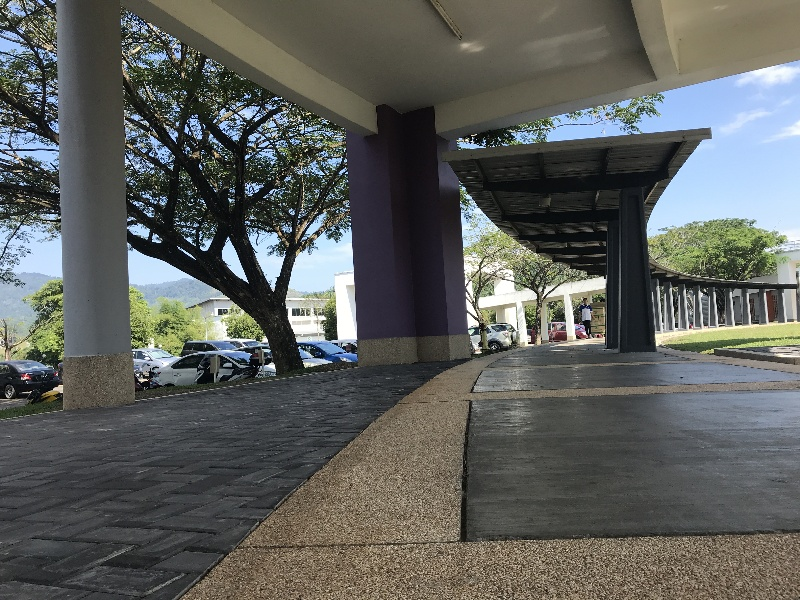Block D Pillar 5: (12, 4, 800, 555)
pillar: (44, 6, 158, 408), (333, 100, 490, 374), (591, 184, 656, 378)
